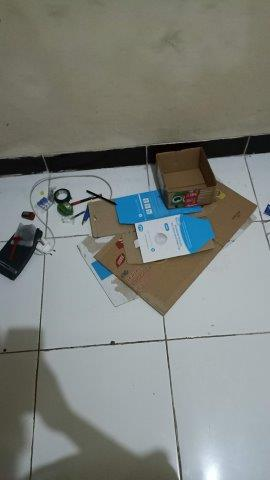kardus: (89, 186, 259, 305), (156, 146, 217, 202)
